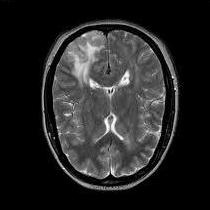Normal_Brain: (40, 1, 204, 210)
